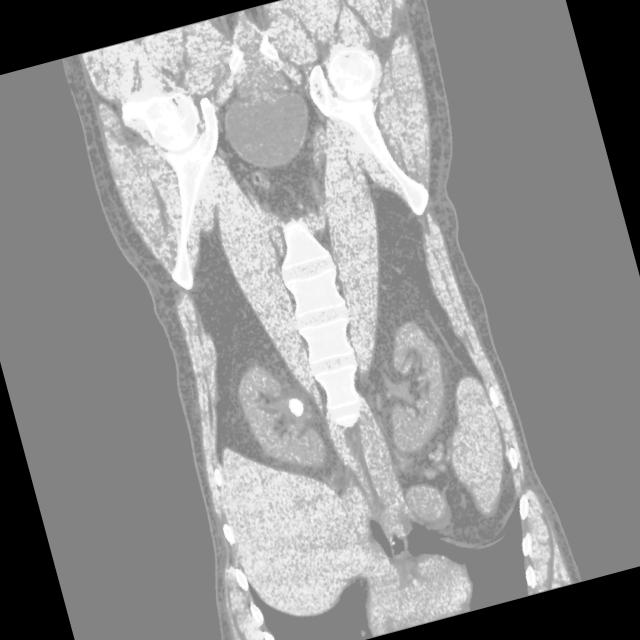STONE: (194, 321, 509, 523)
